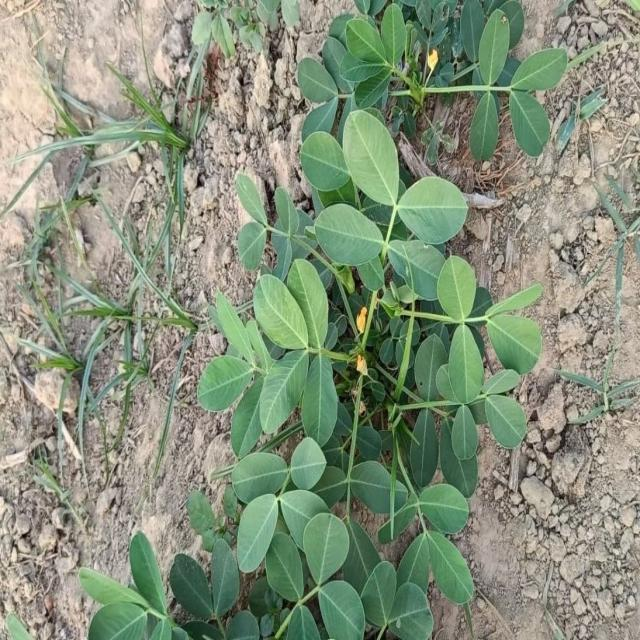plant: (80, 0, 568, 639)
